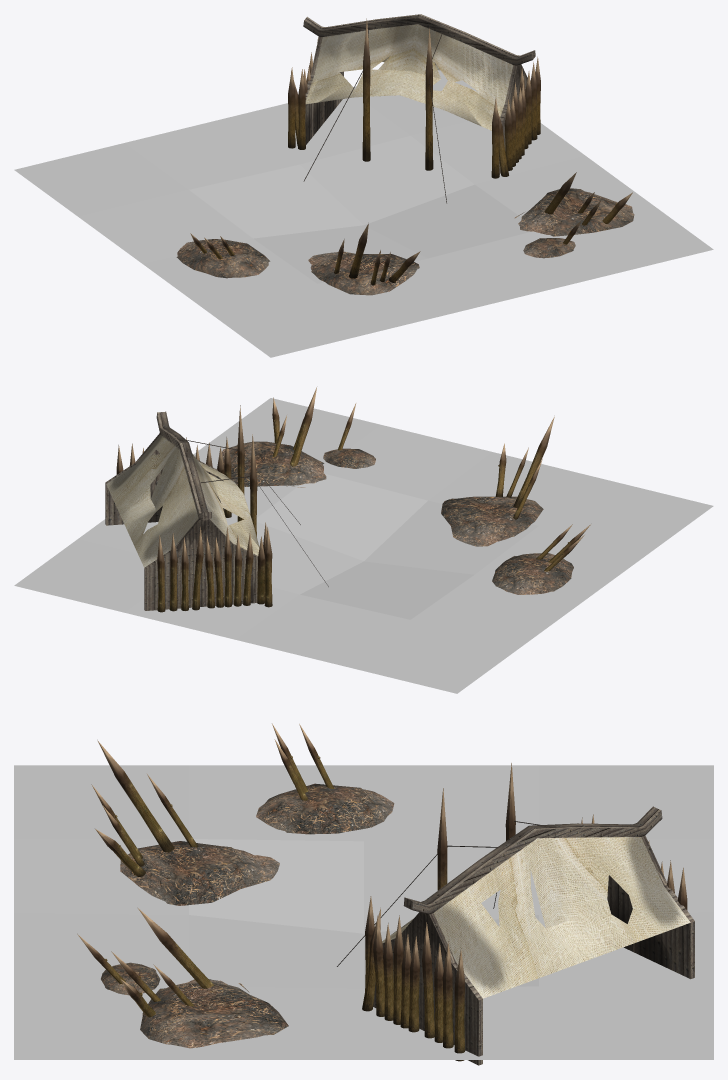
The model's file is goblincamp.fbx.
3 renders of one model, top to bottom at view 1: azimuth 30°, elevation 25°; view 2: azimuth 150°, elevation 25°; view 3: azimuth 270°, elevation 25°, orthographic. The views are drawn at different scales.
Parts seen in each view (by area): view 1: ground 2.001, Cube.001, mud pile 2.001, mud pile 2.002, mud pile1.002, mud pile1.001; view 2: ground 2.001, Cube.001, mud pile 2.002, mud pile 2.001, mud pile1.002, mud pile1.001, stake 1.001, stake 1.003; view 3: ground 2.001, Cube.001, mud pile 2.001, mud pile 2.002, mud pile1.002, stake 1.001, mud pile1.001, stake 1.003.
Part boxes in pixels (box(x1,y1,x2,y2)): ground 2.001: box(14, 70, 713, 357); Cube.001: box(288, 14, 540, 203); mud pile 2.001: box(514, 188, 634, 236); mud pile 2.002: box(308, 251, 419, 295); mud pile1.002: box(176, 239, 270, 278); mud pile1.001: box(523, 238, 575, 258); ground 2.001: box(14, 398, 713, 693); Cube.001: box(105, 405, 328, 612); mud pile 2.002: box(441, 496, 543, 546); mud pile 2.001: box(217, 441, 326, 487); mud pile1.002: box(492, 553, 573, 594); mud pile1.001: box(323, 448, 375, 468); stake 1.001: box(513, 416, 554, 508); stake 1.003: box(290, 387, 316, 466); ground 2.001: box(14, 765, 713, 1059); Cube.001: box(337, 763, 694, 1065); mud pile 2.001: box(140, 979, 288, 1048); mud pile 2.002: box(120, 841, 279, 905); mud pile1.002: box(256, 783, 394, 834); stake 1.001: box(97, 740, 174, 852); mud pile1.001: box(101, 962, 160, 995); stake 1.003: box(138, 908, 214, 988).
Bounding box in the file's own units: 1515 × 505 × 1520.
